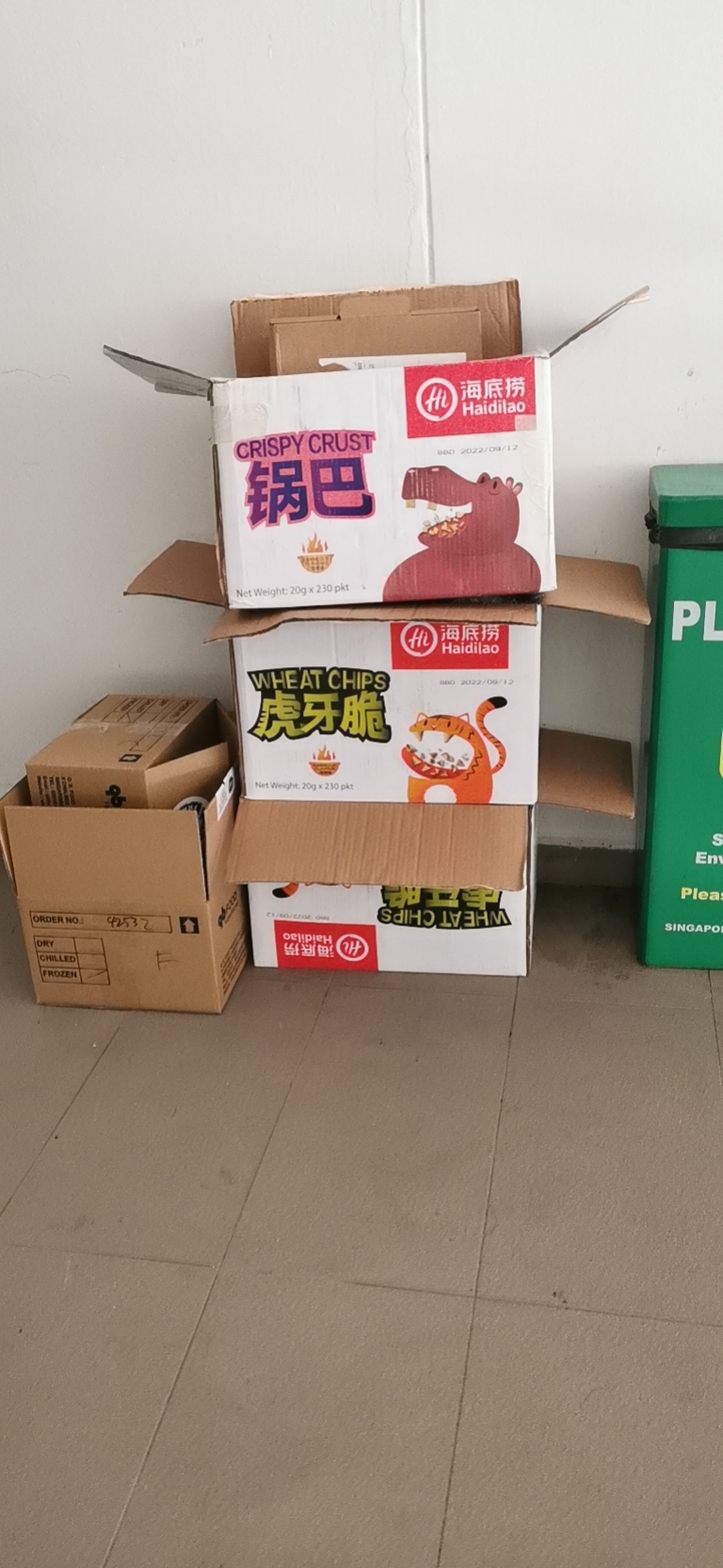bin_empty: (639, 465, 722, 970)
bulk_waste: (105, 281, 554, 606), (216, 557, 649, 804), (0, 694, 247, 1011), (228, 799, 536, 976), (540, 730, 634, 818), (129, 541, 222, 606)
